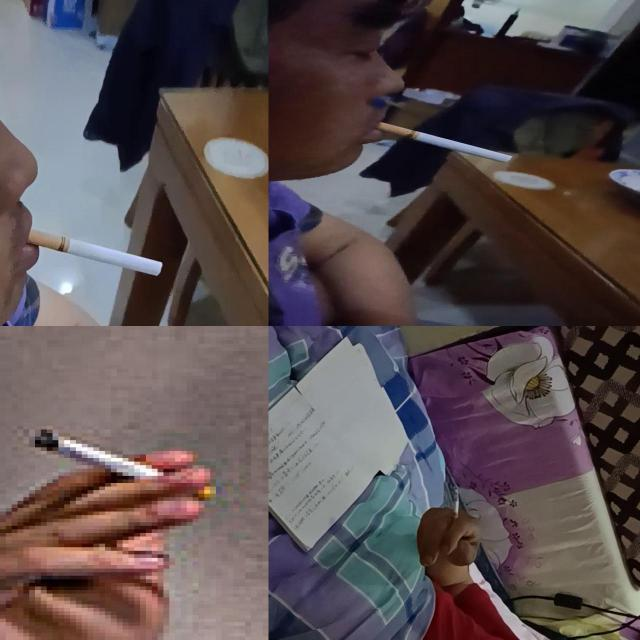smoke: (18, 422, 216, 494), (26, 231, 166, 276), (375, 122, 517, 164), (452, 484, 460, 528)
